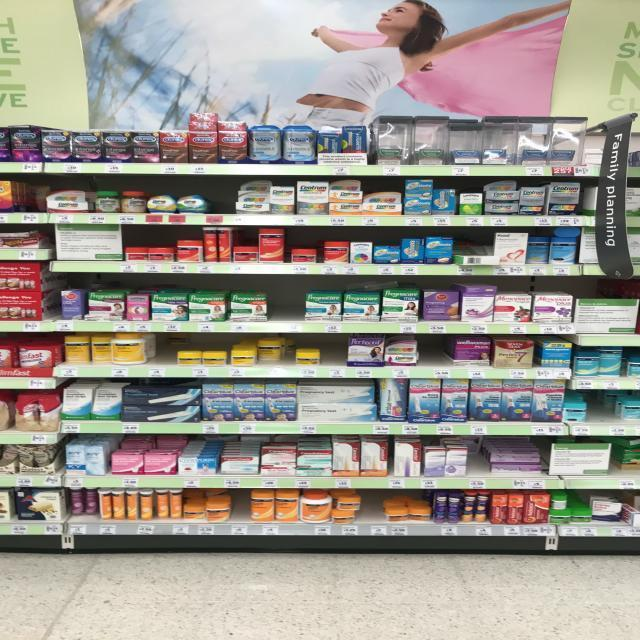empty: (268, 278, 302, 332), (420, 334, 450, 378), (210, 179, 235, 224), (322, 336, 348, 378), (588, 398, 614, 435), (363, 490, 381, 535), (232, 490, 250, 534), (468, 451, 488, 489), (157, 342, 176, 378)
